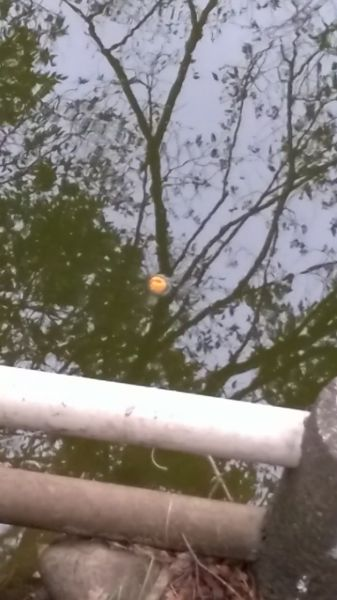eggs: (147, 275, 169, 294)
